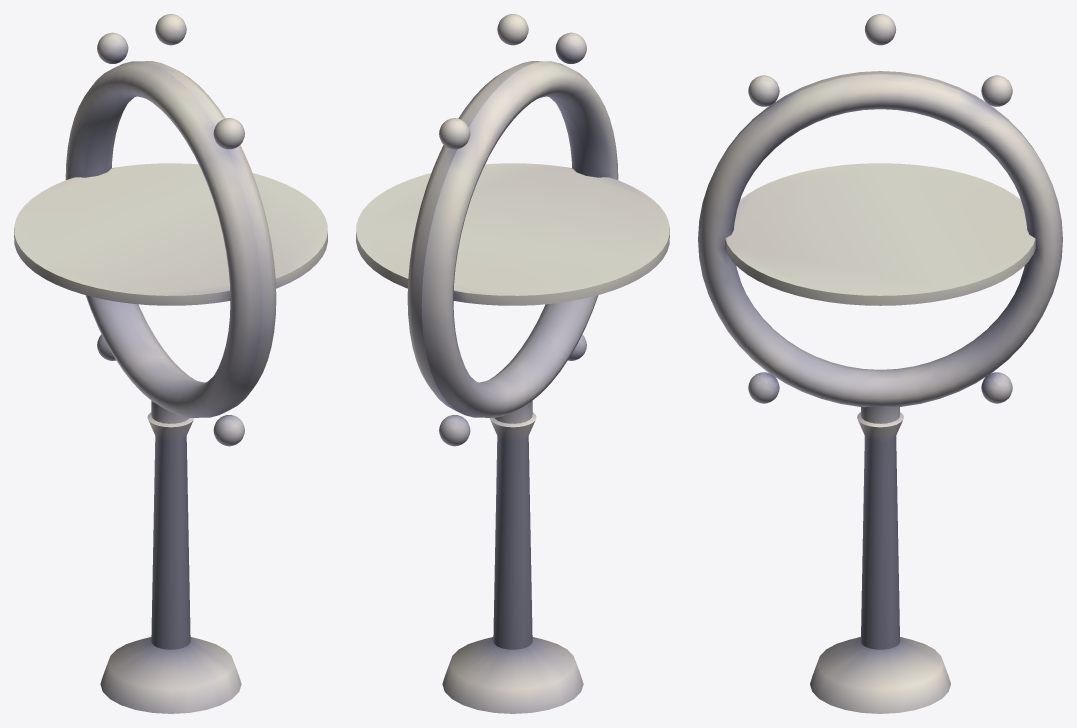
The model's file is mirror-panel.glb.
The picture shows the model from 3 angles, left to right: view 1: azimuth 30°, elevation 25°; view 2: azimuth 150°, elevation 25°; view 3: azimuth 270°, elevation 25°; orthographic projection.
Visible parts, largest first — view 1: body; view 2: body; view 3: body.
Part boxes in pixels (x1,y1,x2,y2): body: (14,14,327,713); body: (356,14,669,713); body: (698,14,1062,713).
Bounding box in the file's own units: 0.8 × 1.88 × 0.93.
